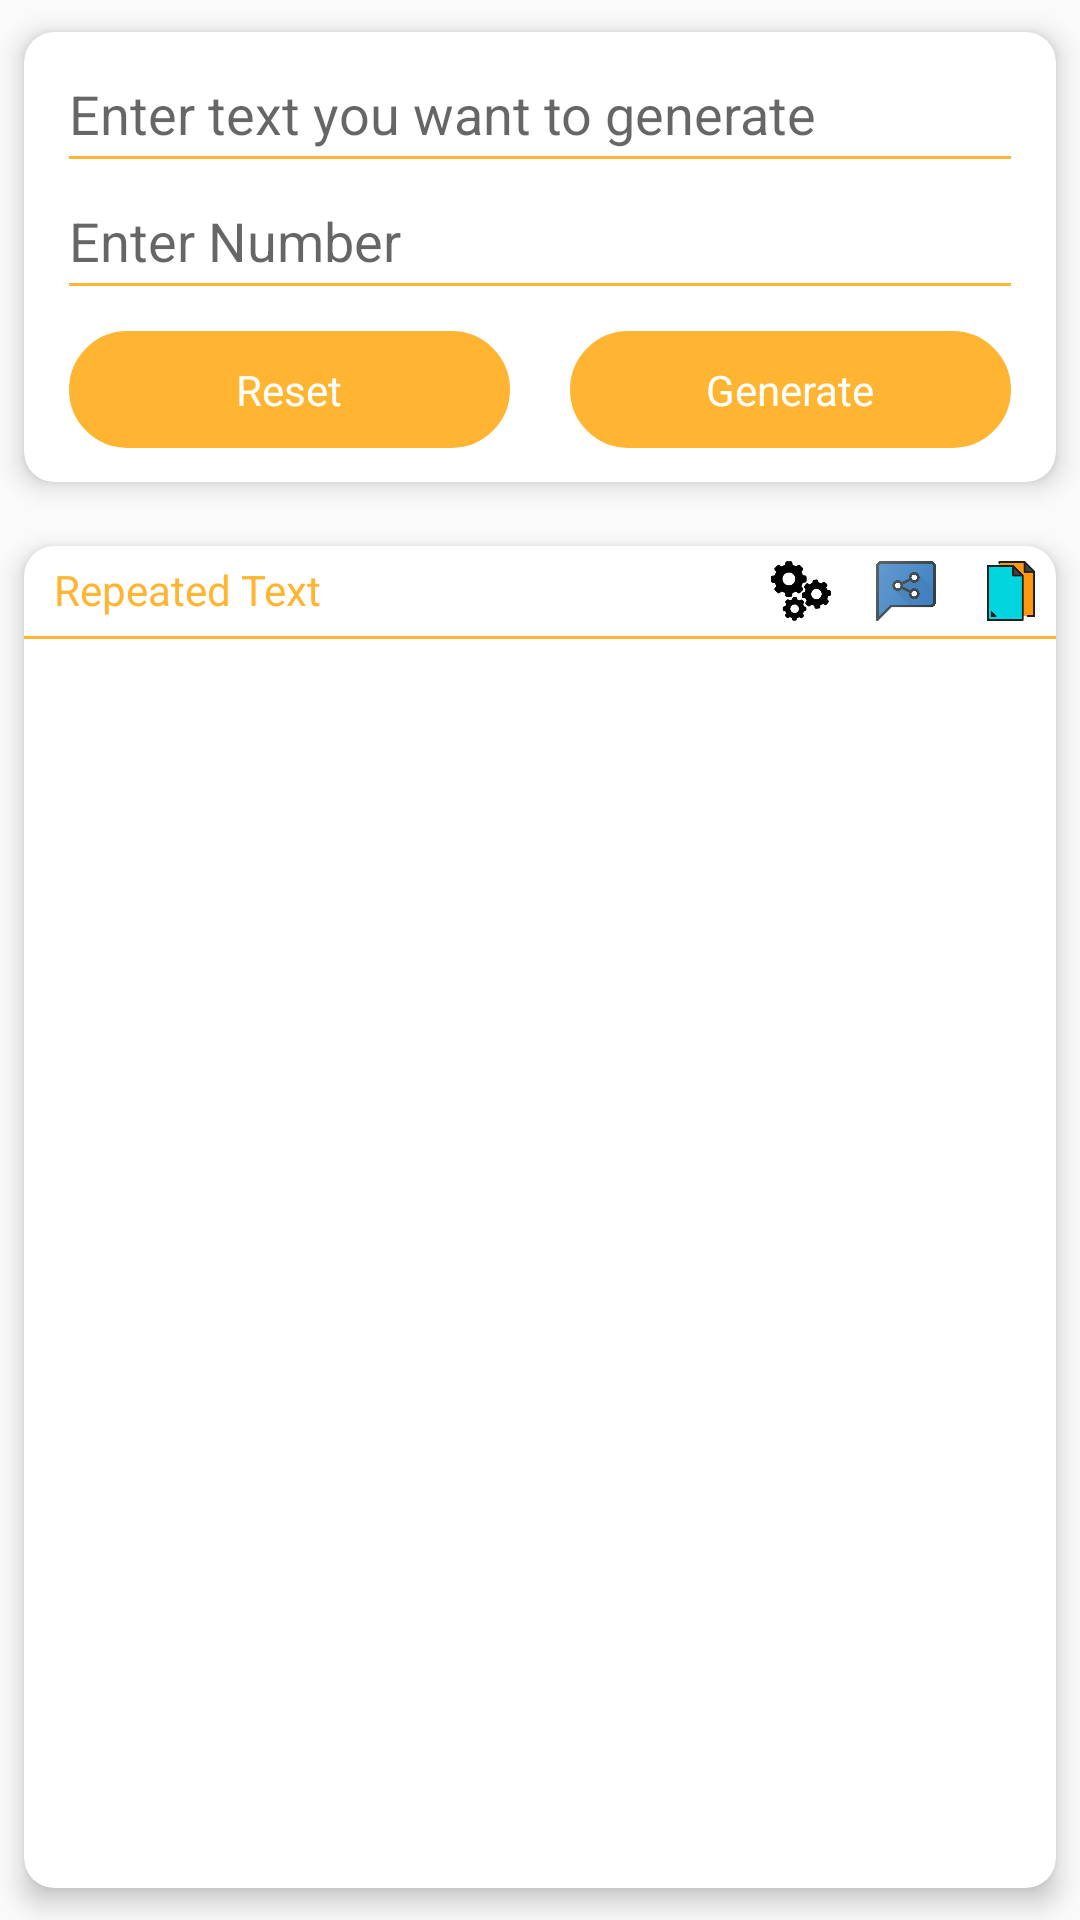

Where to tap for icons on this 1080 × 1920 app screen, as [x,y]:
chat: [906,591]
settings gears: [801,591]
